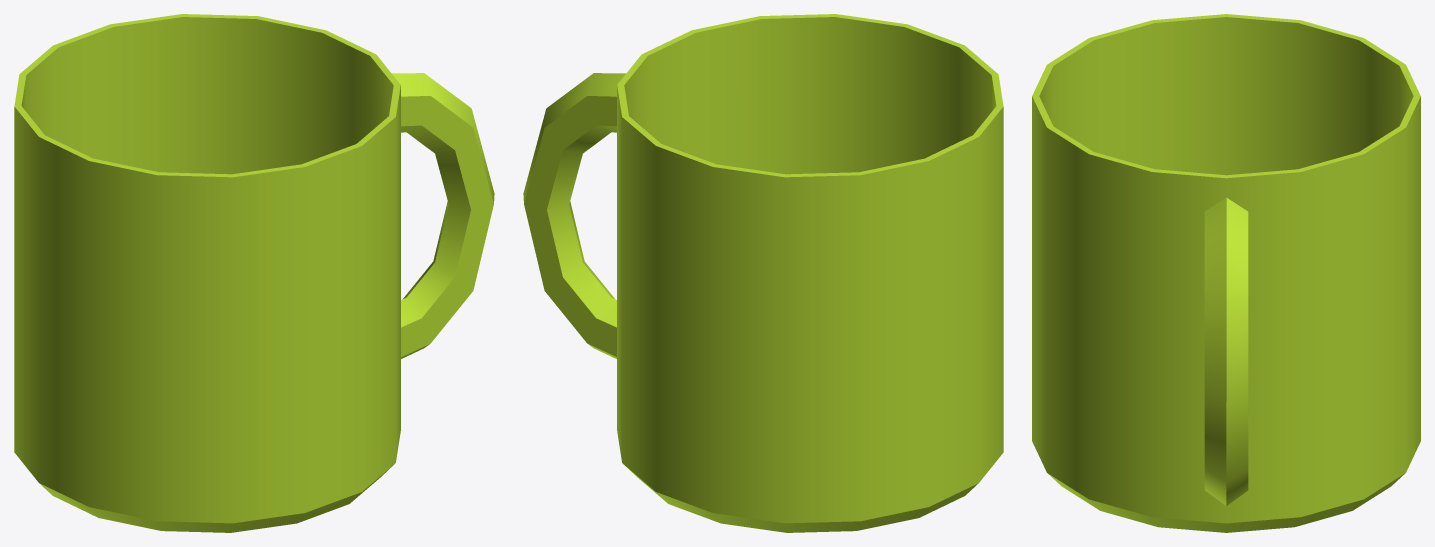
File: Taza07.fbx
3 renders of one model, left to right at view 1: azimuth 30°, elevation 25°; view 2: azimuth 150°, elevation 25°; view 3: azimuth 270°, elevation 25°, orthographic.
Visible parts, largest first — view 1: Taza07; view 2: Taza07; view 3: Taza07.
Part boxes in pixels (<box>): Taza07: <box>14,14,494,532</box>; Taza07: <box>523,14,1003,532</box>; Taza07: <box>1032,14,1420,532</box>.
Size of the model in its own units: 0.1046 by 0.0795 by 0.0775.
